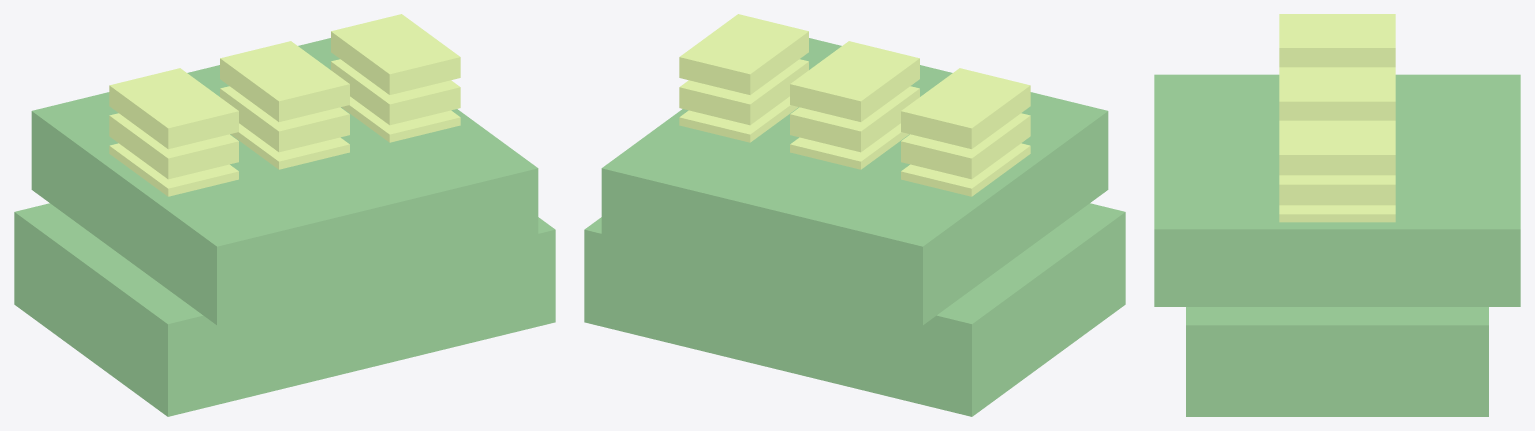
The model's file is chloroplasts.gltf.
3 renders of one model, left to right at view 1: azimuth 30°, elevation 25°; view 2: azimuth 150°, elevation 25°; view 3: azimuth 270°, elevation 25°, orthographic.
Parts seen in each view (by area): view 1: ChloroplastUpperLens, ChloroplastLowerLens, Granum_7, Granum_8, Granum_6, Granum_3, Granum_4, Granum_5, Granum_0, Granum_2, Granum_1; view 2: ChloroplastUpperLens, ChloroplastLowerLens, Granum_7, Granum_8, Granum_6, Granum_3, Granum_4, Granum_5, Granum_0, Granum_2, Granum_1; view 3: ChloroplastUpperLens, ChloroplastLowerLens, Granum_8, Granum_6, Granum_7, Granum_5, Granum_2.
Part boxes in pixels (x1=…): ChloroplastUpperLens: x1=31, y1=38, x2=538, y2=325; ChloroplastLowerLens: x1=14, y1=203, x2=555, y2=416; Granum_7: x1=220, y1=41, x2=349, y2=121; Granum_8: x1=331, y1=14, x2=460, y2=94; Granum_6: x1=109, y1=68, x2=238, y2=149; Granum_3: x1=109, y1=113, x2=238, y2=179; Granum_4: x1=220, y1=86, x2=349, y2=152; Granum_5: x1=331, y1=59, x2=460, y2=125; Granum_0: x1=109, y1=143, x2=238, y2=196; Granum_2: x1=341, y1=96, x2=460, y2=142; Granum_1: x1=230, y1=123, x2=349, y2=169; ChloroplastUpperLens: x1=601, y1=38, x2=1108, y2=325; ChloroplastLowerLens: x1=584, y1=203, x2=1125, y2=416; Granum_7: x1=790, y1=41, x2=919, y2=121; Granum_8: x1=679, y1=14, x2=808, y2=94; Granum_6: x1=901, y1=68, x2=1030, y2=149; Granum_3: x1=901, y1=113, x2=1030, y2=179; Granum_4: x1=790, y1=86, x2=919, y2=152; Granum_5: x1=679, y1=59, x2=808, y2=125; Granum_0: x1=901, y1=143, x2=1030, y2=196; Granum_2: x1=679, y1=96, x2=798, y2=142; Granum_1: x1=790, y1=123, x2=909, y2=169; ChloroplastUpperLens: x1=1154, y1=74, x2=1520, y2=306; ChloroplastLowerLens: x1=1186, y1=307, x2=1488, y2=416; Granum_8: x1=1279, y1=120, x2=1395, y2=175; Granum_6: x1=1279, y1=14, x2=1395, y2=67; Granum_7: x1=1279, y1=67, x2=1395, y2=120; Granum_5: x1=1279, y1=175, x2=1395, y2=205; Granum_2: x1=1279, y1=205, x2=1395, y2=222.
Size of the model in its own units: 1.75 by 1.04 by 1.45.
